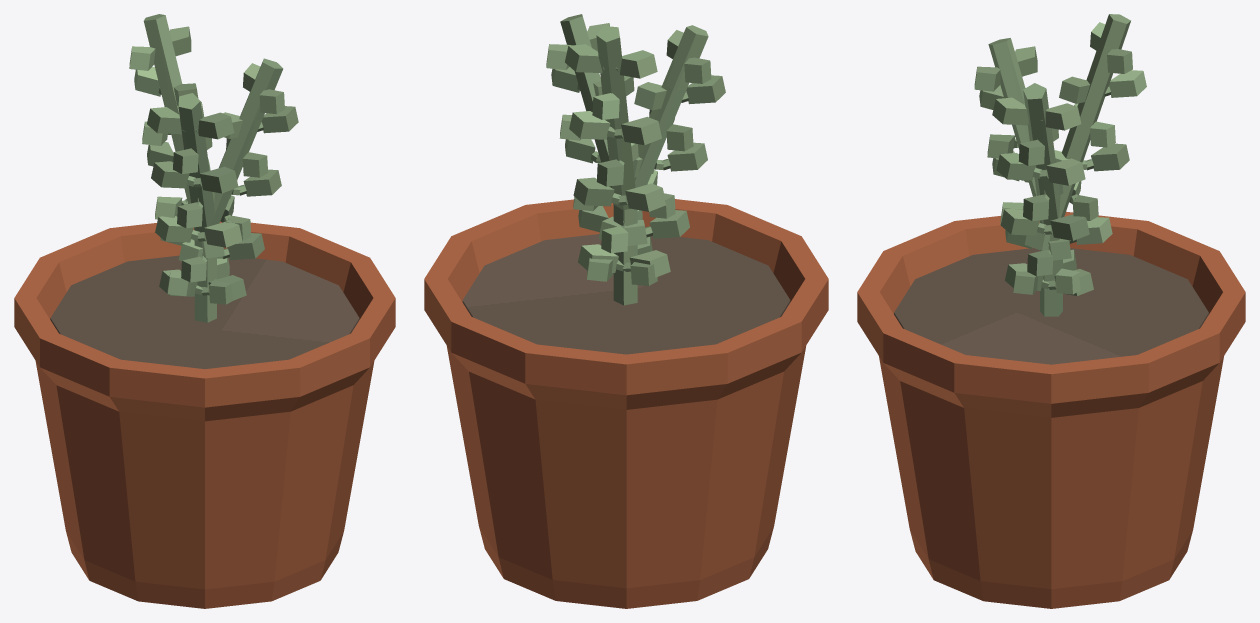
Rendered from new-perforata.glb.
3 views of the same model, side by side, from view 1: azimuth 30°, elevation 25°; view 2: azimuth 150°, elevation 25°; view 3: azimuth 270°, elevation 25° (orthographic). The views are drawn at different scales.
Visible parts, largest first — view 1: new-perforata/review-terra-vessel, new-perforata/review-rooted-soil, new-perforata/stem-001, new-perforata/stem-059, new-perforata/stem-030, new-perforata/leaf-079, new-perforata/leaf-071, new-perforata/leaf-085, new-perforata/leaf-087, new-perforata/leaf-077, new-perforata/leaf-015, new-perforata/leaf-069 (+11 smaller); view 2: new-perforata/review-terra-vessel, new-perforata/review-rooted-soil, new-perforata/stem-059, new-perforata/stem-030, new-perforata/stem-001, new-perforata/leaf-040, new-perforata/leaf-048, new-perforata/leaf-042, new-perforata/leaf-050, new-perforata/leaf-056, new-perforata/leaf-058, new-perforata/leaf-073 (+14 smaller); view 3: new-perforata/review-terra-vessel, new-perforata/review-rooted-soil, new-perforata/stem-030, new-perforata/stem-001, new-perforata/stem-059, new-perforata/leaf-044, new-perforata/leaf-021, new-perforata/leaf-052, new-perforata/leaf-027, new-perforata/leaf-013, new-perforata/leaf-029, new-perforata/leaf-019 (+13 smaller).
Boxes of the visible parts, x1,y1,x2,y2 form: new-perforata/review-terra-vessel: [14, 221, 395, 608]; new-perforata/review-rooted-soil: [50, 255, 359, 368]; new-perforata/stem-001: [194, 58, 283, 322]; new-perforata/stem-059: [178, 93, 216, 322]; new-perforata/stem-030: [143, 14, 202, 317]; new-perforata/leaf-079: [200, 166, 238, 193]; new-perforata/leaf-071: [204, 221, 242, 247]; new-perforata/leaf-085: [147, 107, 181, 134]; new-perforata/leaf-087: [198, 112, 234, 139]; new-perforata/leaf-077: [151, 161, 189, 188]; new-perforata/leaf-015: [243, 169, 281, 196]; new-perforata/leaf-069: [155, 216, 193, 242]; new-perforata/review-terra-vessel: [424, 199, 828, 608]; new-perforata/review-rooted-soil: [462, 234, 790, 354]; new-perforata/stem-059: [624, 25, 708, 305]; new-perforata/stem-030: [596, 26, 637, 301]; new-perforata/stem-001: [560, 14, 623, 305]; new-perforata/leaf-040: [573, 177, 614, 206]; new-perforata/leaf-048: [569, 111, 610, 139]; new-perforata/leaf-042: [625, 183, 666, 211]; new-perforata/leaf-050: [621, 116, 661, 145]; new-perforata/leaf-056: [565, 44, 602, 73]; new-perforata/leaf-058: [620, 50, 657, 78]; new-perforata/leaf-073: [667, 142, 707, 171]; new-perforata/review-terra-vessel: [857, 211, 1245, 608]; new-perforata/review-rooted-soil: [894, 248, 1208, 364]; new-perforata/stem-030: [1044, 14, 1130, 316]; new-perforata/stem-001: [1023, 83, 1062, 316]; new-perforata/stem-059: [988, 38, 1050, 316]; new-perforata/leaf-044: [1091, 143, 1129, 171]; new-perforata/leaf-021: [1046, 158, 1085, 185]; new-perforata/leaf-052: [1109, 70, 1146, 97]; new-perforata/leaf-027: [992, 97, 1028, 125]; new-perforata/leaf-013: [1050, 214, 1089, 240]; new-perforata/leaf-029: [1045, 103, 1081, 130]; new-perforata/leaf-019: [996, 153, 1035, 180].
Bounding box in the file's own units: 0.19 × 0.2846 × 0.19.
Materials: 3 (3 with a texture image).
